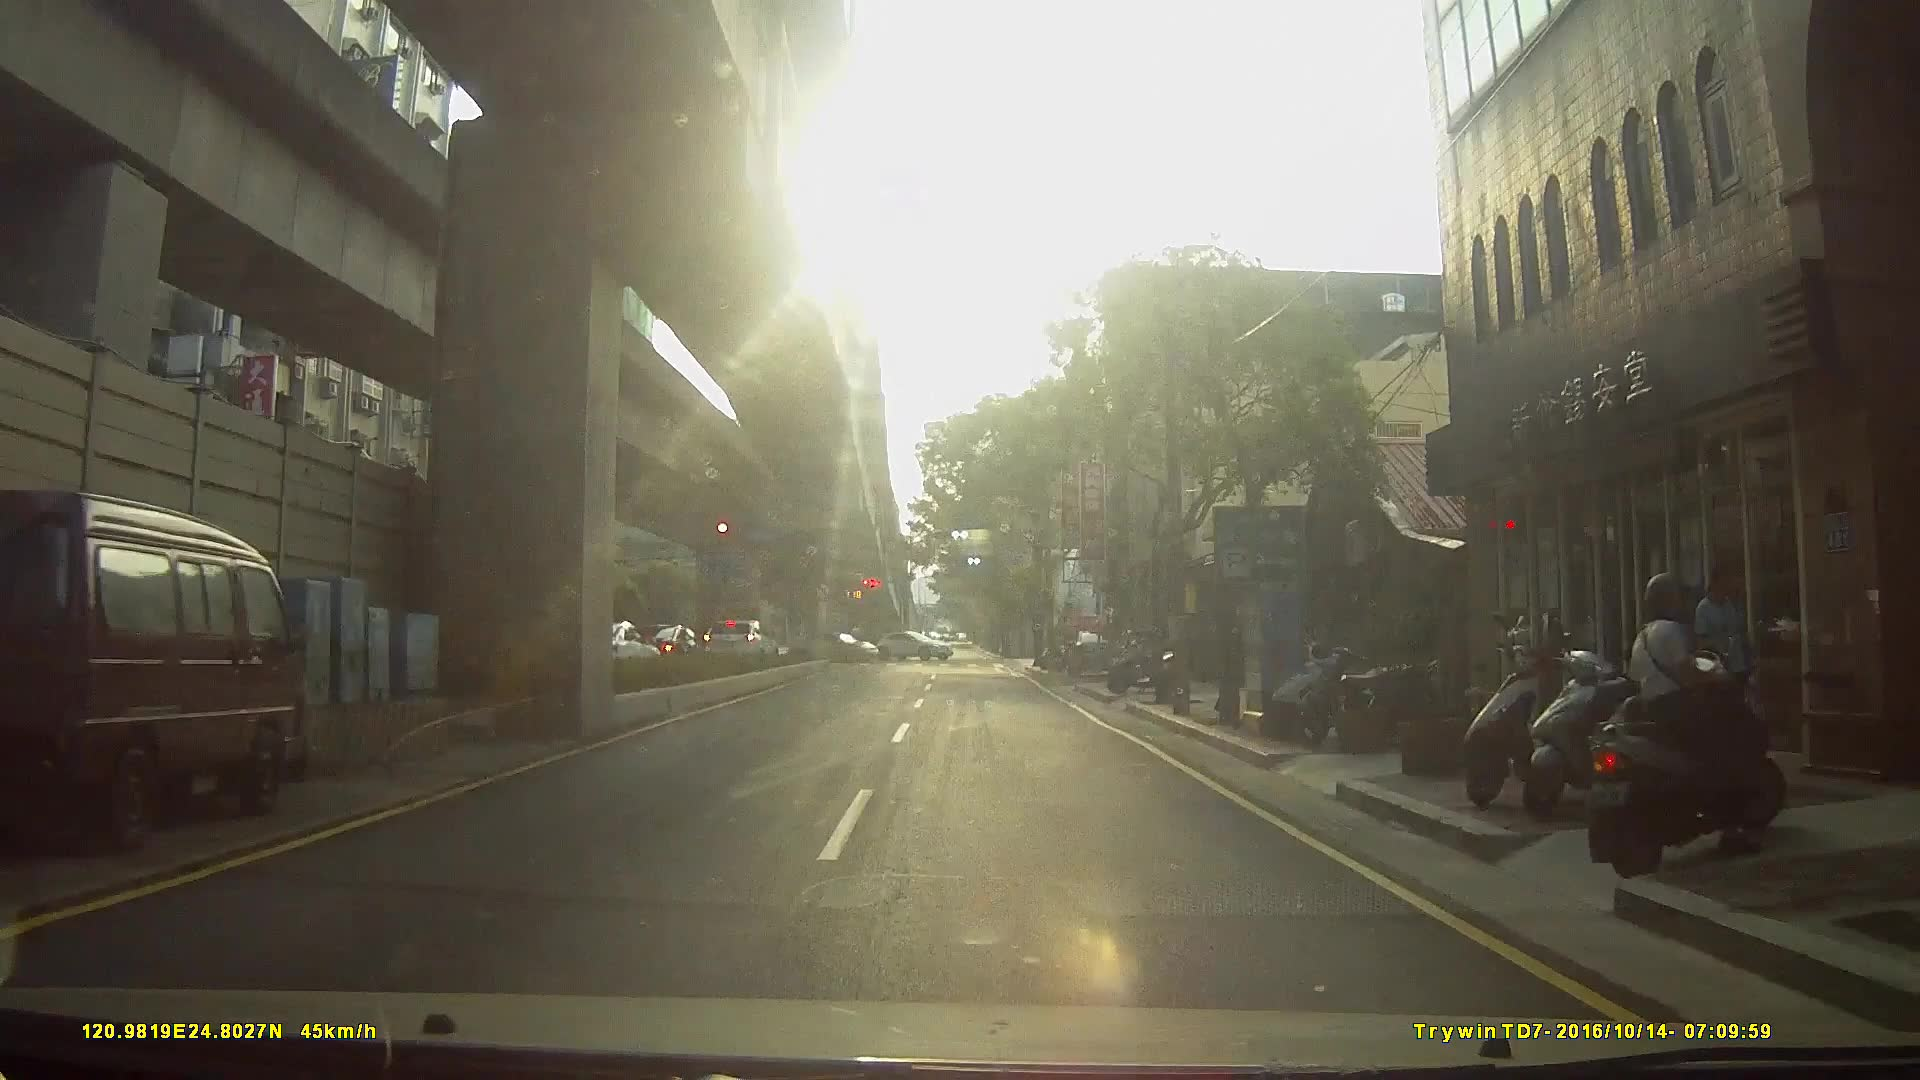pedestrian: (1686, 560, 1758, 775)
rider: (1588, 577, 1810, 864)
vehicle: (1, 479, 337, 867), (785, 628, 881, 665), (701, 618, 777, 664), (1064, 625, 1119, 675), (874, 630, 956, 660)
